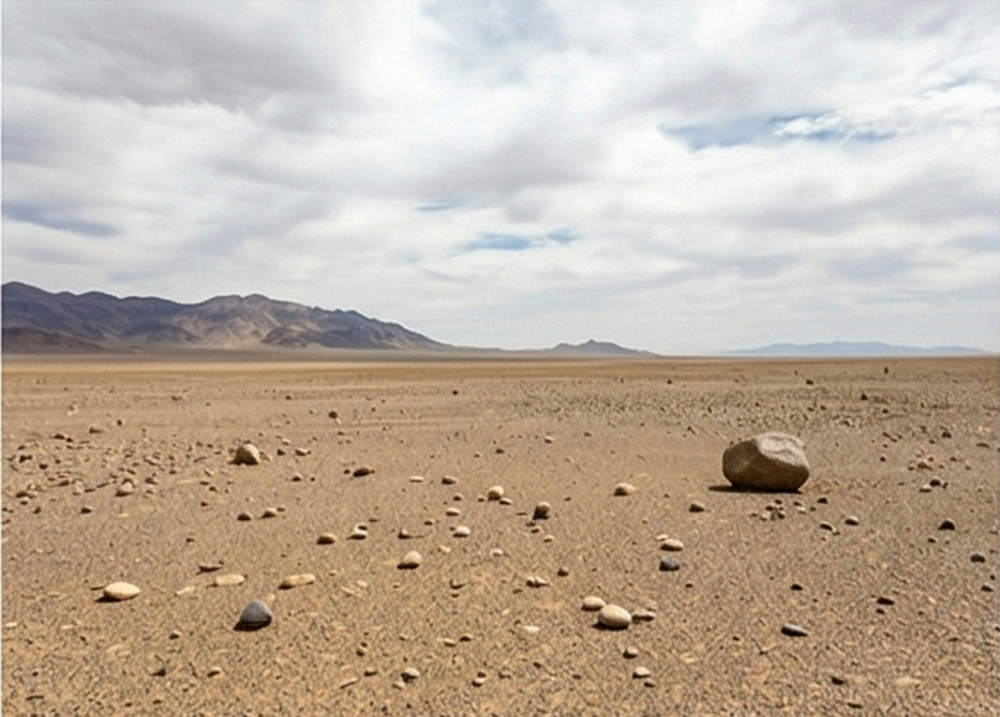rocks: (723, 433, 809, 491)
